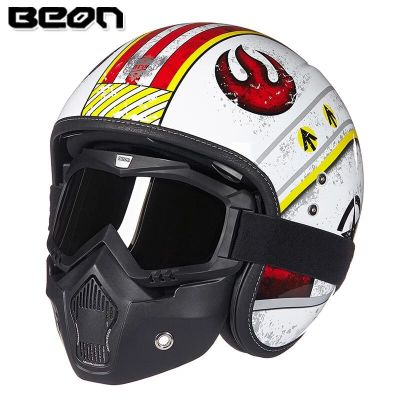helmet: (38, 30, 366, 358)
